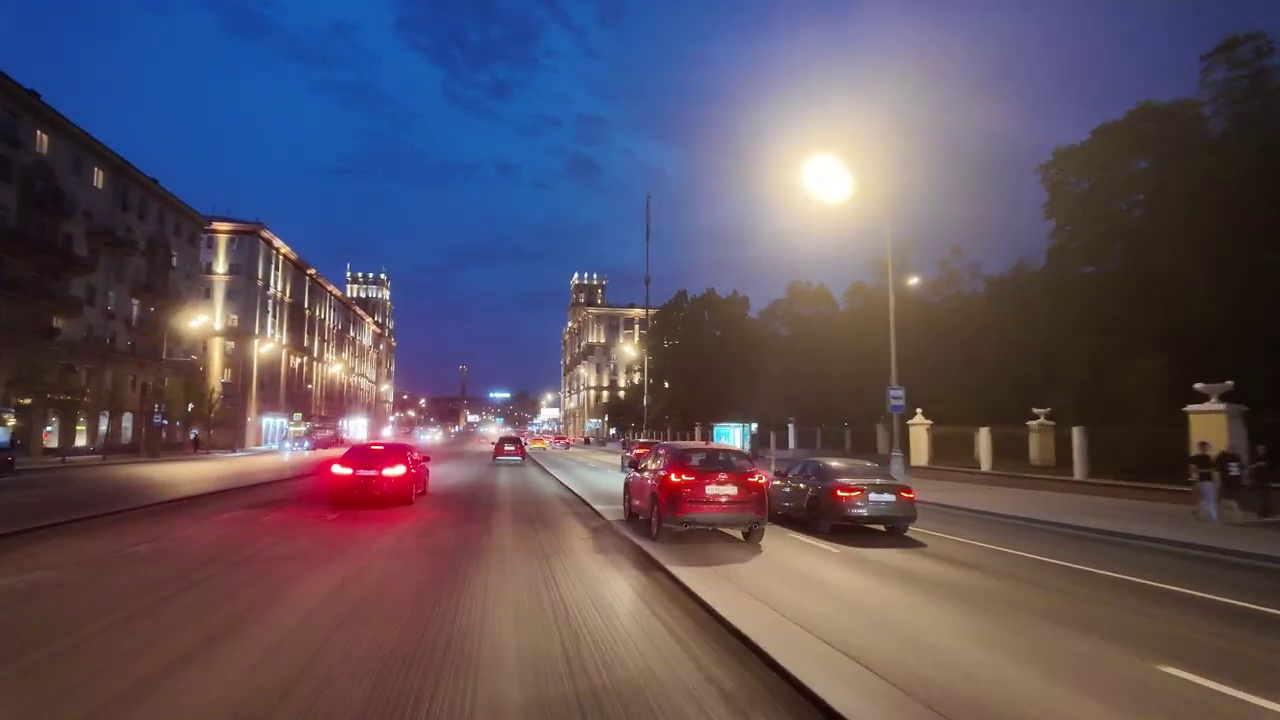acesa: (790, 146, 862, 216), (178, 306, 215, 337)
